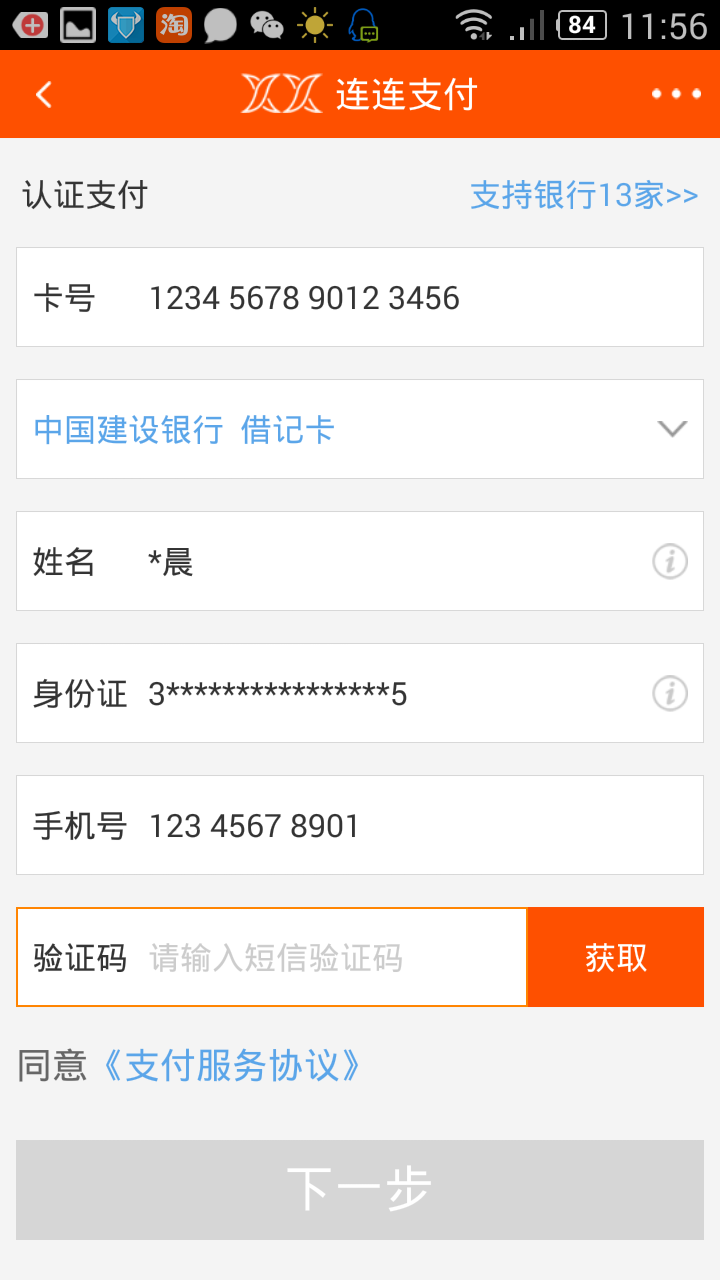button: (4, 1126, 717, 1257), (524, 896, 709, 1010)
imgbutton: (650, 542, 690, 584)
textview: (10, 888, 712, 1019)
